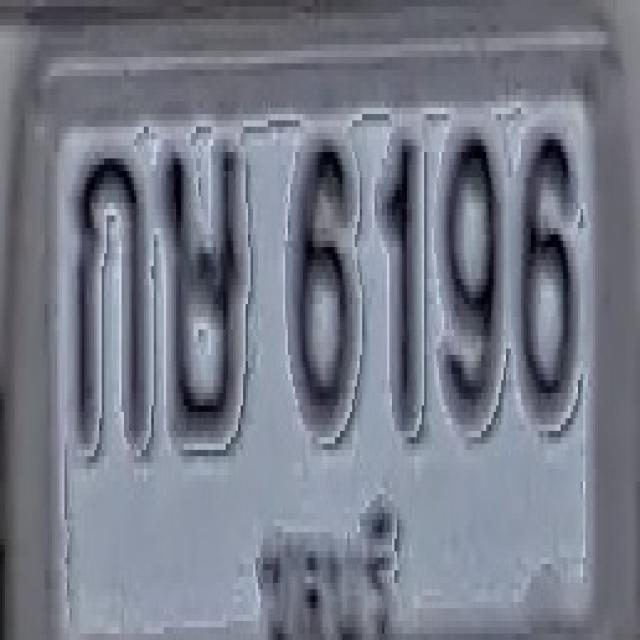1: (381, 130, 418, 434)
6: (292, 133, 354, 425), (517, 124, 574, 415)
9: (442, 127, 498, 418)
A01: (72, 149, 149, 447)
A39: (161, 142, 243, 440)
CBI: (244, 479, 411, 640)
